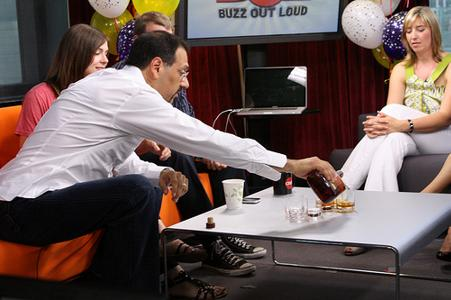person: (2, 32, 336, 298)
